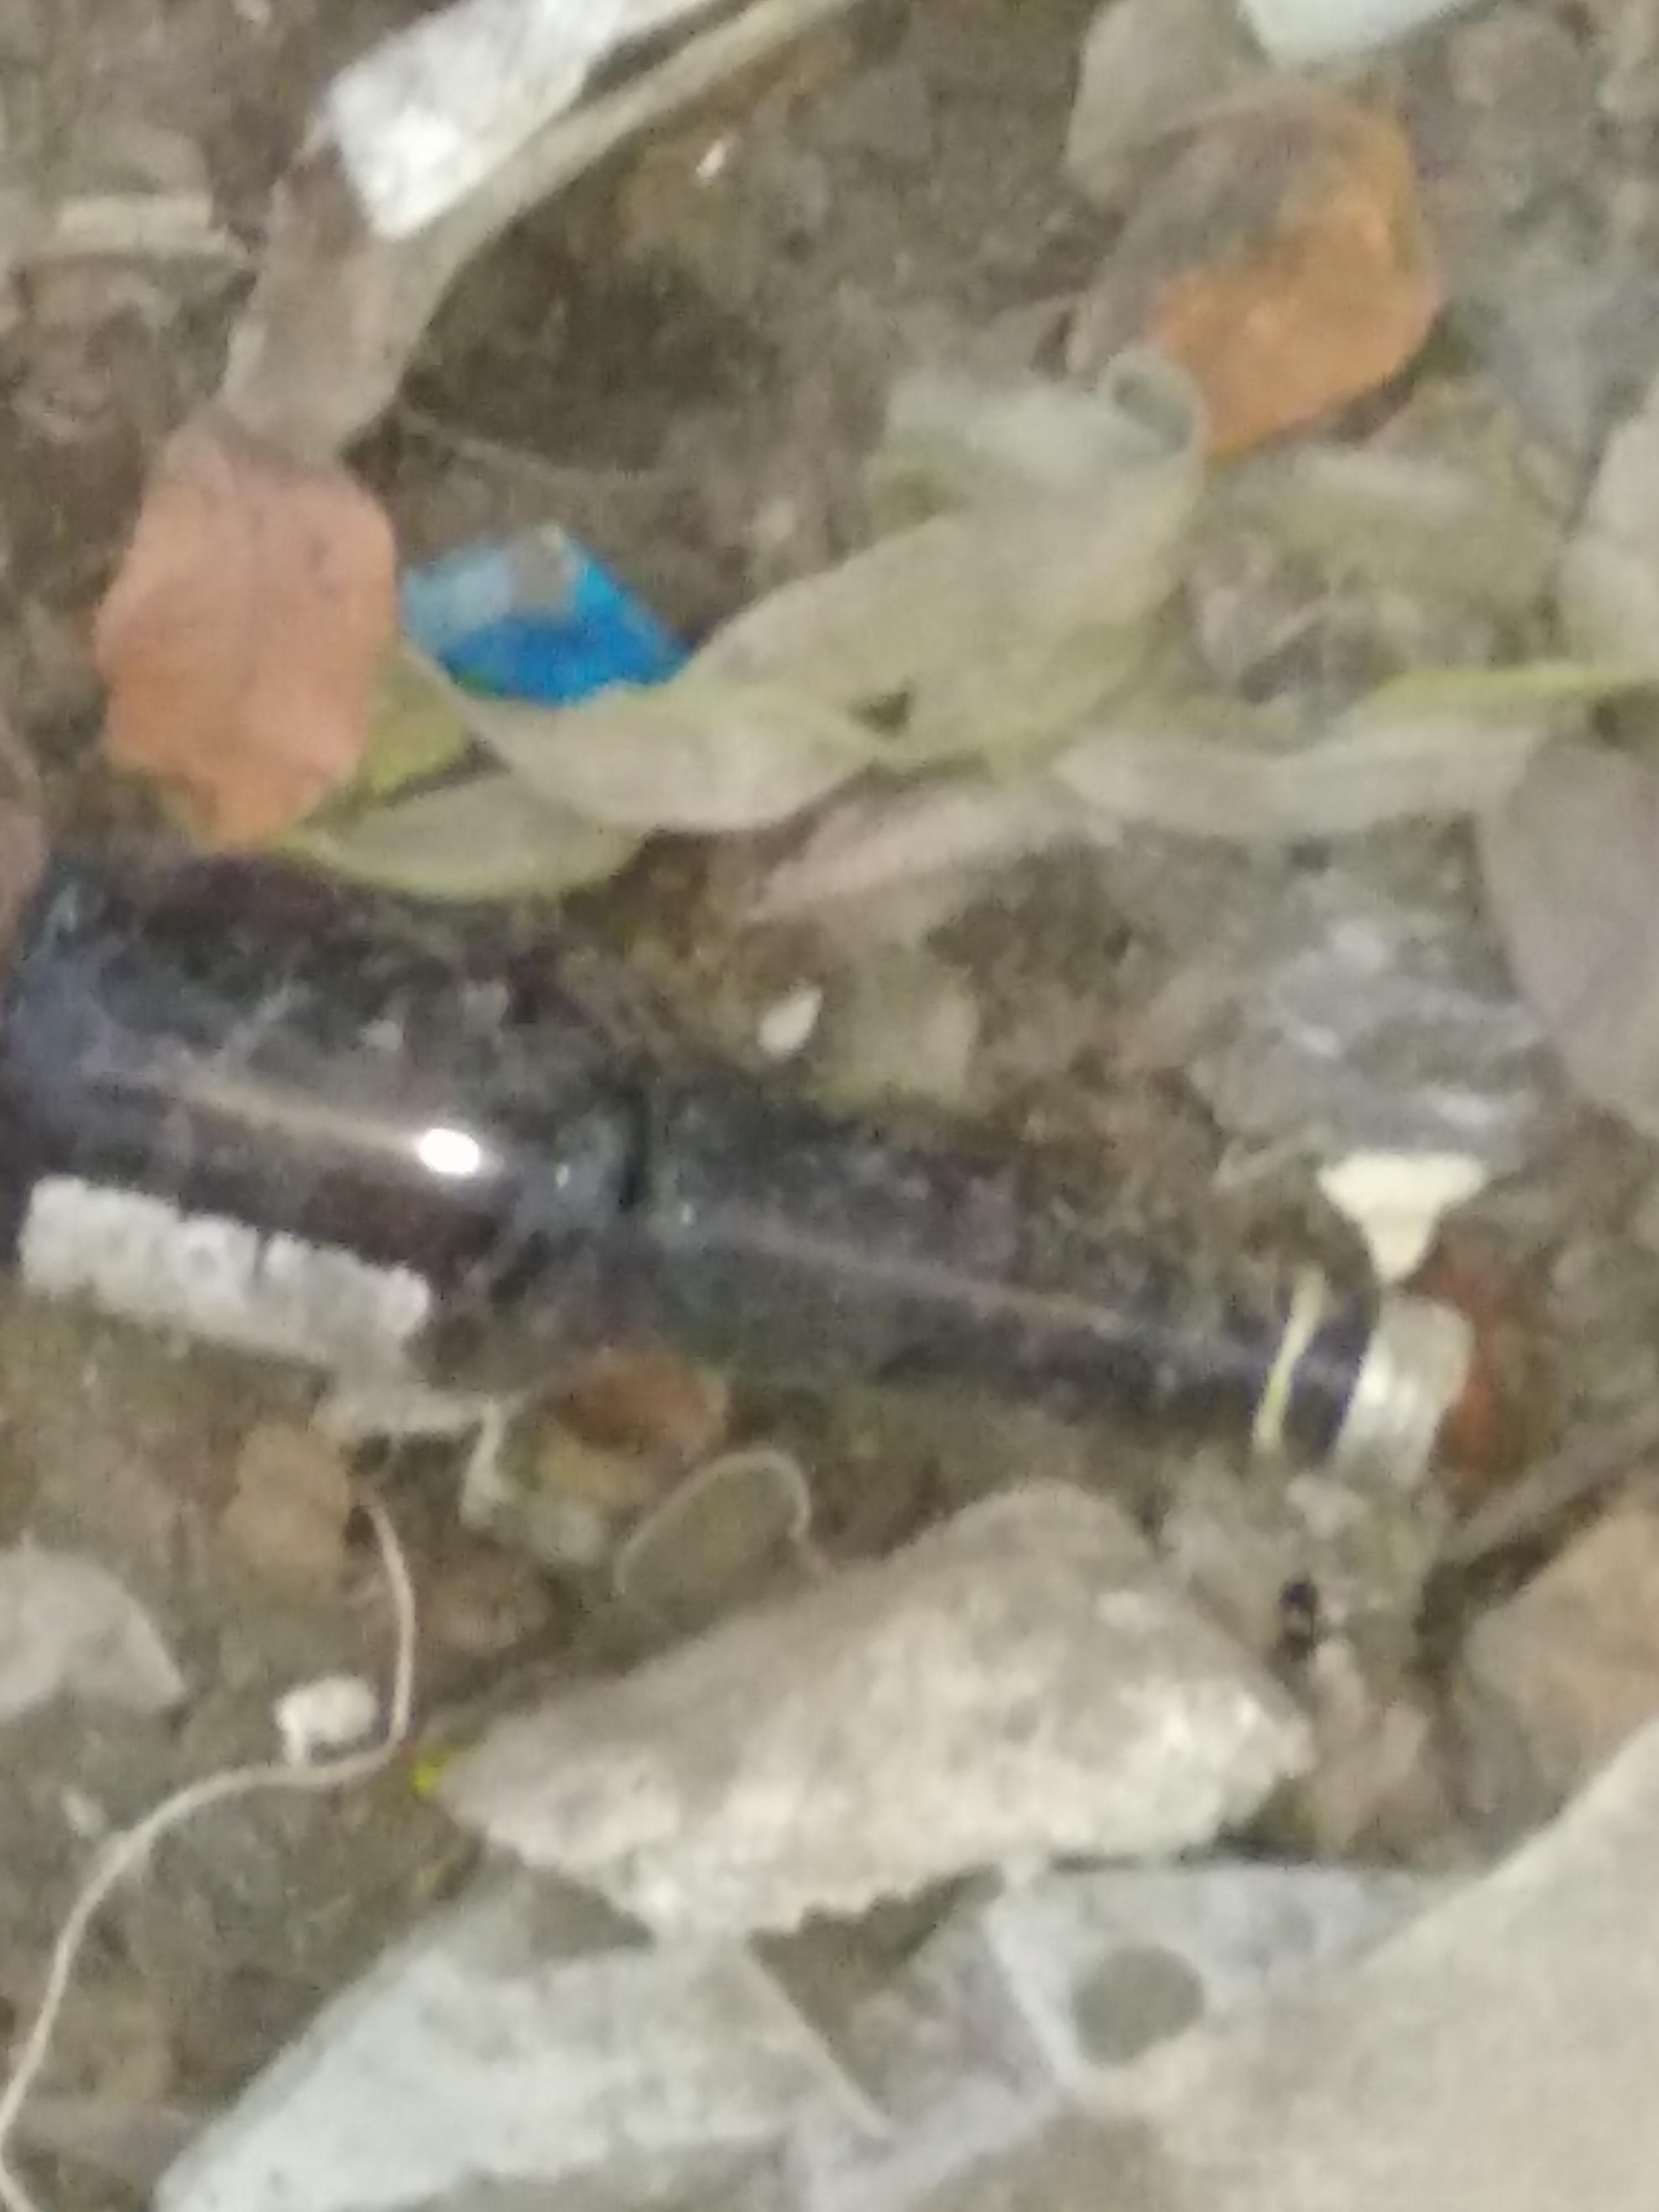organic: (5, 16, 1659, 2161)
